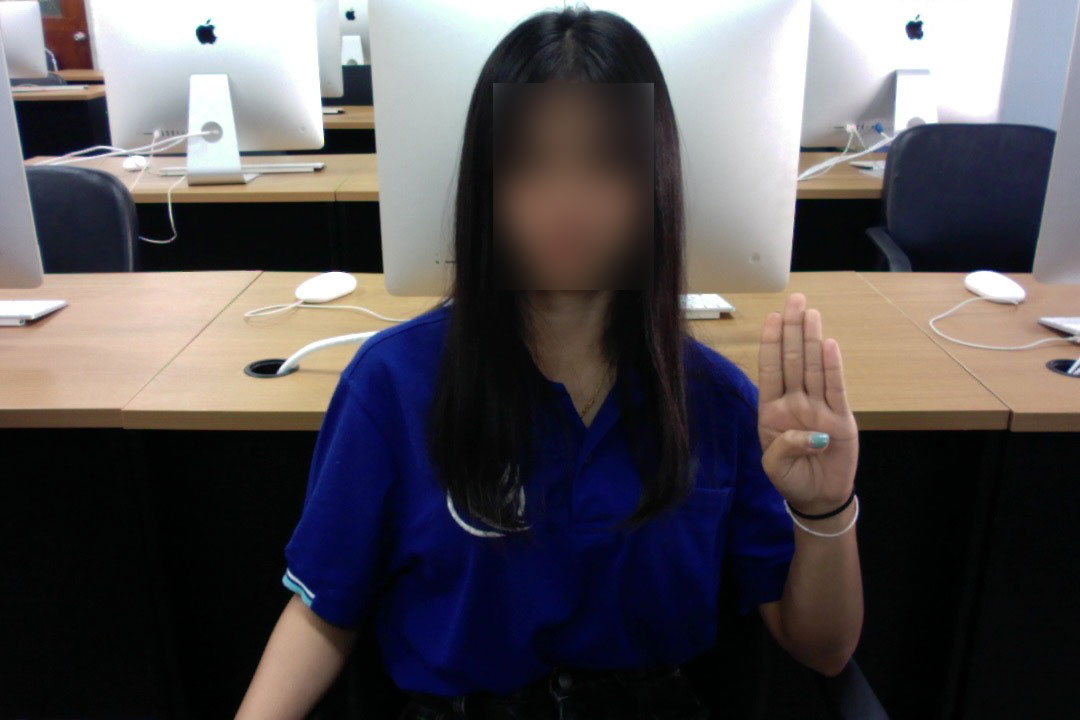bor: (744, 280, 865, 531)
